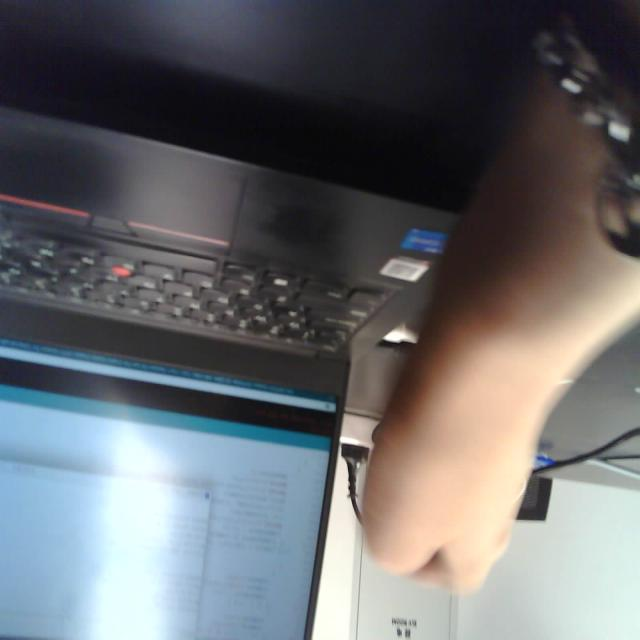keyboard-with-hands: (0, 105, 486, 369)
